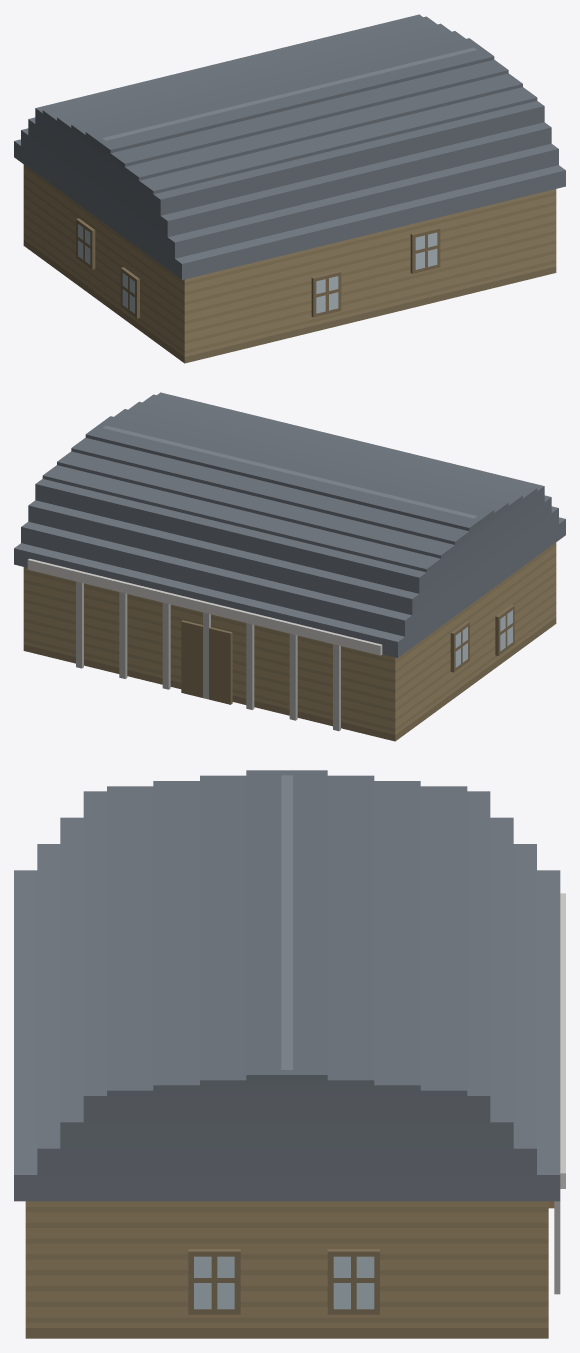
File: casino_03.glb
The picture shows the model from 3 angles, top to bottom: view 1: azimuth 30°, elevation 25°; view 2: azimuth 150°, elevation 25°; view 3: azimuth 270°, elevation 25°; orthographic projection. The views are drawn at different scales.
Parts seen in each view (by area): view 1: casino_03; view 2: casino_03; view 3: casino_03.
Part boxes in pixels (bbox=[...]): casino_03: bbox=[14, 14, 565, 363]; casino_03: bbox=[14, 392, 565, 741]; casino_03: bbox=[14, 770, 565, 1338].
Size of the model in its own units: 12.4 by 5.1 by 9.5.
